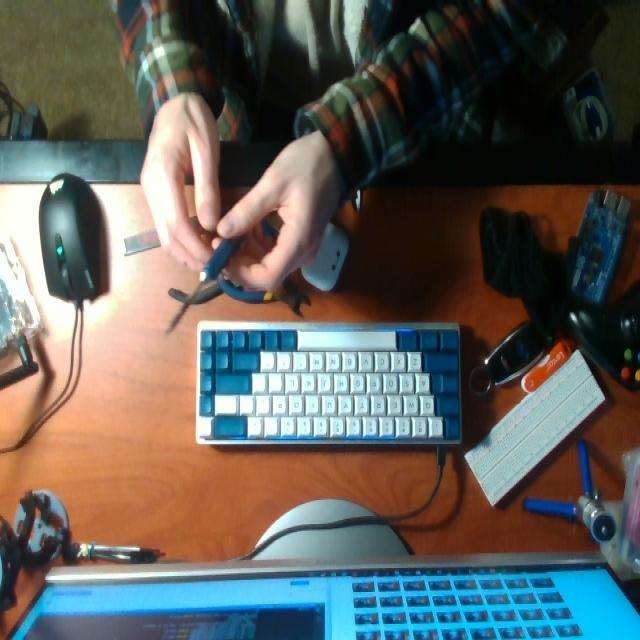keyboard: (198, 326, 461, 439)
